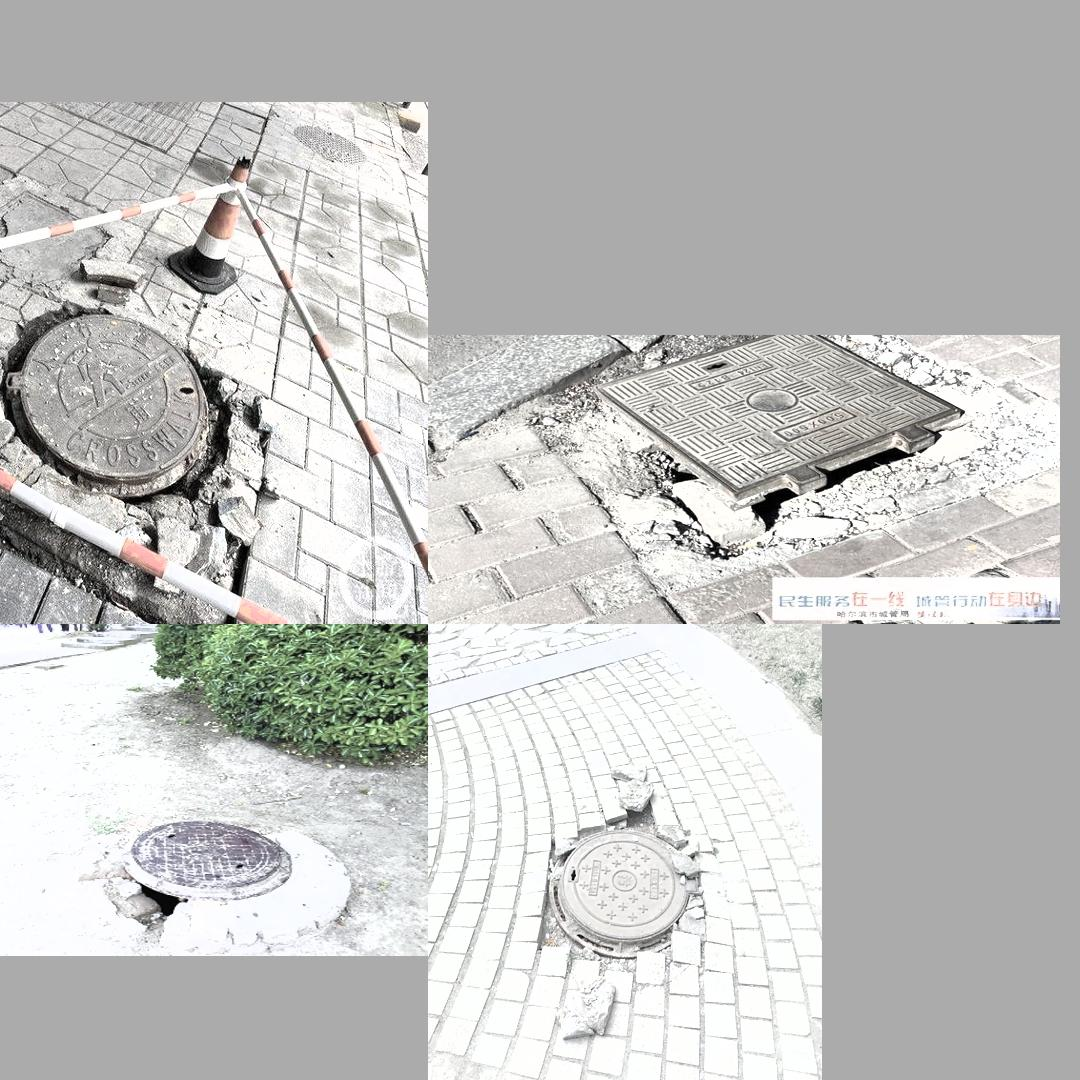circle: (530, 339, 1054, 565), (0, 281, 261, 606), (522, 792, 726, 987), (63, 816, 358, 940)
